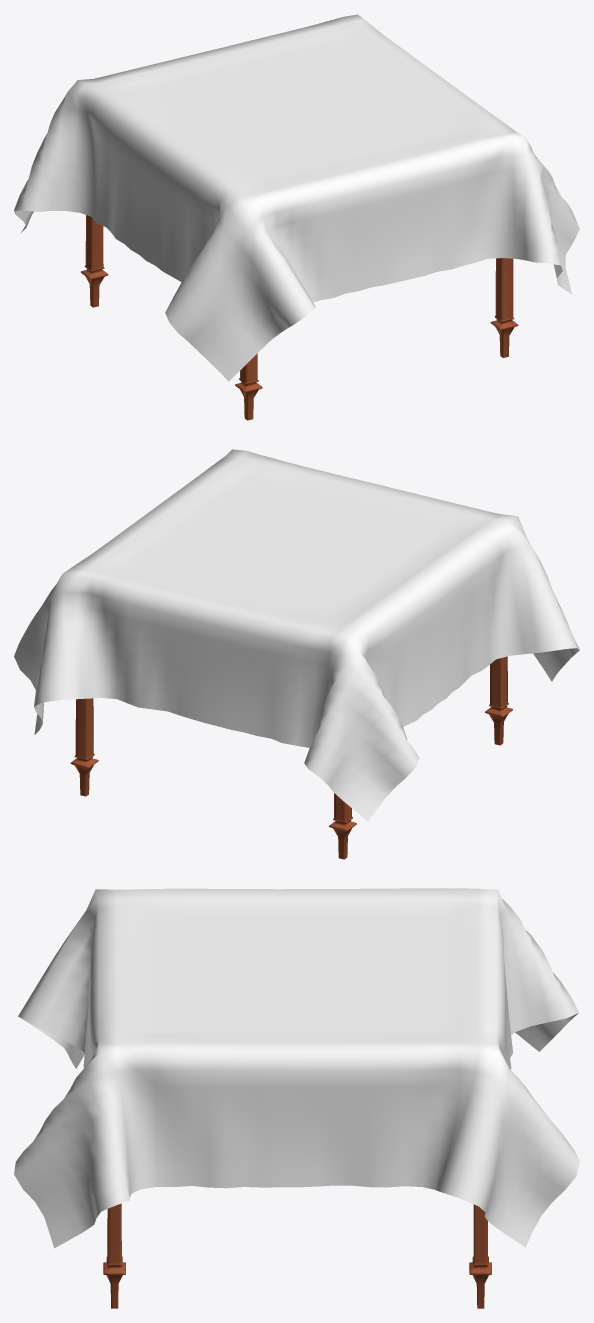
Rendered from diningTable_D.fbx.
The picture shows the model from 3 angles, top to bottom: view 1: azimuth 30°, elevation 25°; view 2: azimuth 150°, elevation 25°; view 3: azimuth 270°, elevation 25°; orthographic projection. The views are drawn at different scales.
Parts seen in each view (by area): view 1: table; view 2: table; view 3: table.
Boxes of the visible parts, x1,y1,x2,y2 form: table: [14, 14, 579, 420]; table: [14, 449, 579, 859]; table: [14, 888, 579, 1308].
Bounding box in the file's own units: 5.31 × 2.8 × 5.39.
Materials: 2 (1 with a texture image).
